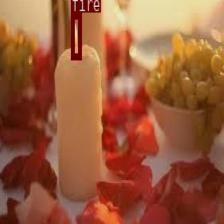fire: (71, 12, 81, 58)
